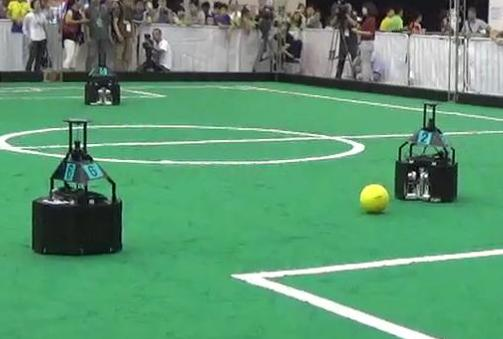robot: (27, 110, 125, 257), (391, 98, 462, 206)
